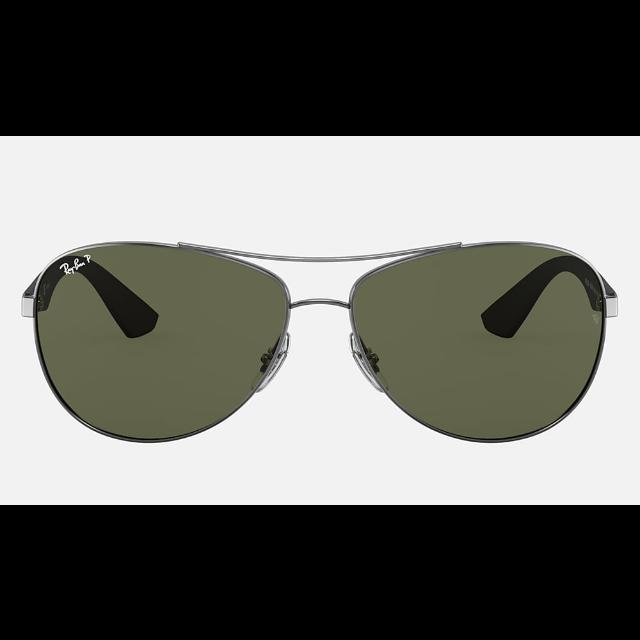Sunglasses: (22, 241, 618, 441)
